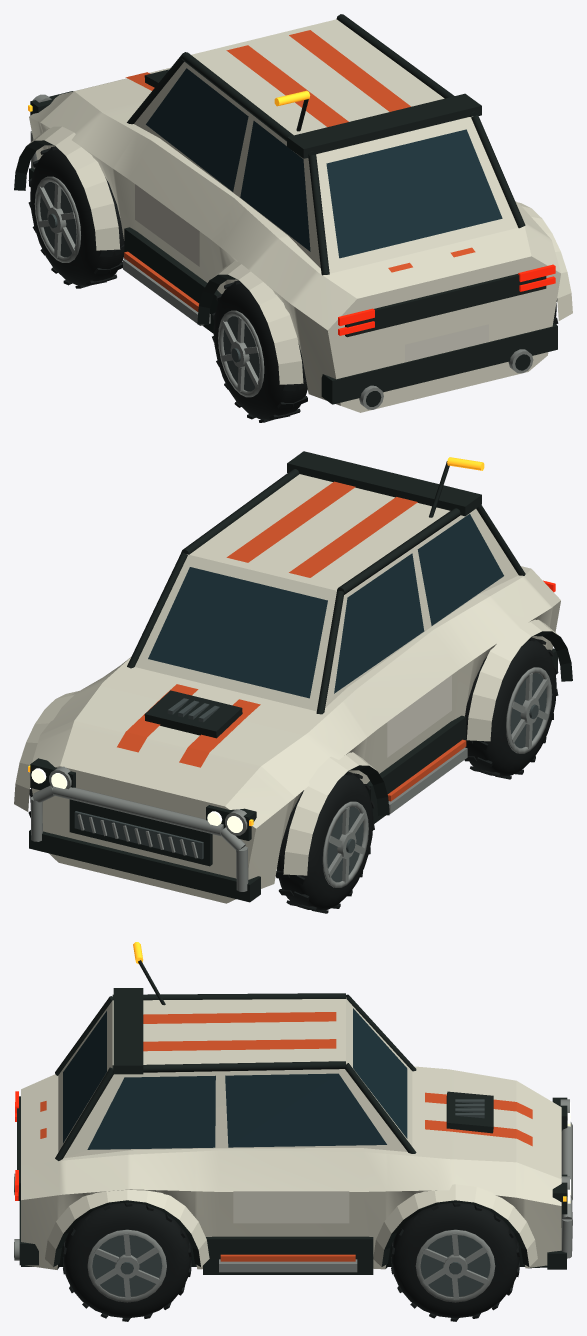
File: rumbler.glb
3 views of the same model, one above another, from view 1: azimuth 30°, elevation 25°; view 2: azimuth 150°, elevation 25°; view 3: azimuth 270°, elevation 25° (orthographic). The views are drawn at different scales.
Parts seen in each view (by area): view 1: Body paint, Body glass, Body trim, Wheel rubber (×2), Body stripe, Wheel steel (×2), Body decal, Wheel brake (×2), Body steel, Body taillight; view 2: Body paint, Body glass, Body trim, Wheel rubber (×2), Body stripe, Body steel, Wheel steel (×2), Body brake, Body decal, Wheel brake (×2), Body headlight; view 3: Body paint, Body glass, Body trim, Wheel rubber (×2), Body stripe, Wheel steel (×2), Wheel brake (×2), Body decal, Body steel, Body brake.
Boxes of the visible parts, bbox=[...] form: Body paint: bbox=[27, 19, 572, 412]; Body glass: bbox=[146, 68, 502, 258]; Body trim: bbox=[14, 14, 557, 406]; Wheel rubber (×2): bbox=[28, 146, 307, 422]; Body stripe: bbox=[124, 30, 475, 311]; Wheel steel (×2): bbox=[34, 176, 264, 397]; Body decal: bbox=[135, 184, 488, 361]; Wheel brake (×2): bbox=[40, 182, 259, 391]; Body steel: bbox=[30, 94, 533, 409]; Body taillight: bbox=[338, 264, 555, 335]; Body paint: bbox=[14, 474, 560, 903]; Body glass: bbox=[148, 514, 503, 698]; Body trim: bbox=[29, 451, 572, 902]; Wheel rubber (×2): bbox=[275, 637, 558, 913]; Body stripe: bbox=[117, 481, 466, 801]; Body steel: bbox=[30, 747, 467, 891]; Wheel steel (×2): bbox=[322, 667, 552, 887]; Body brake: bbox=[74, 698, 219, 859]; Body decal: bbox=[387, 675, 451, 757]; Wheel brake (×2): bbox=[327, 673, 546, 882]; Body headlight: bbox=[31, 768, 242, 832]; Body paint: bbox=[21, 997, 561, 1269]; Body glass: bbox=[63, 1008, 407, 1149]; Body trim: bbox=[14, 960, 567, 1274]; Wheel rubber (×2): bbox=[63, 1202, 519, 1321]; Body stripe: bbox=[40, 1012, 532, 1261]; Wheel steel (×2): bbox=[87, 1229, 495, 1302]; Wheel brake (×2): bbox=[92, 1235, 490, 1296]; Body decal: bbox=[233, 1191, 349, 1223]; Body steel: bbox=[14, 1099, 572, 1272]; Body brake: bbox=[455, 1099, 484, 1118].
Bounding box in the file's own units: 1.93 × 1.88 × 3.47.
